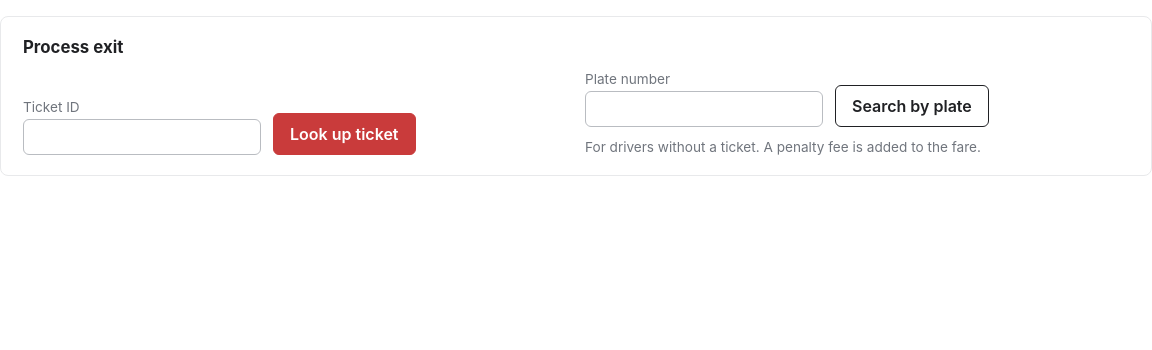
Scenario: ExitConsole › looks up by ticket, then displays the entry and computed fare response
In the field labelled "Ticket ID": {"x": 142, "y": 137} [23,119,261,155], type "TKT-1"
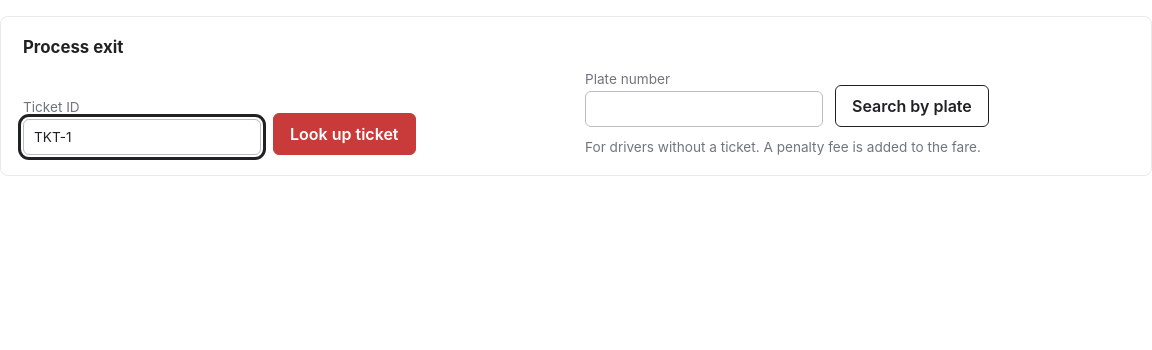
Click the button "Look up ticket": {"x": 344, "y": 134} [273,113,416,155]
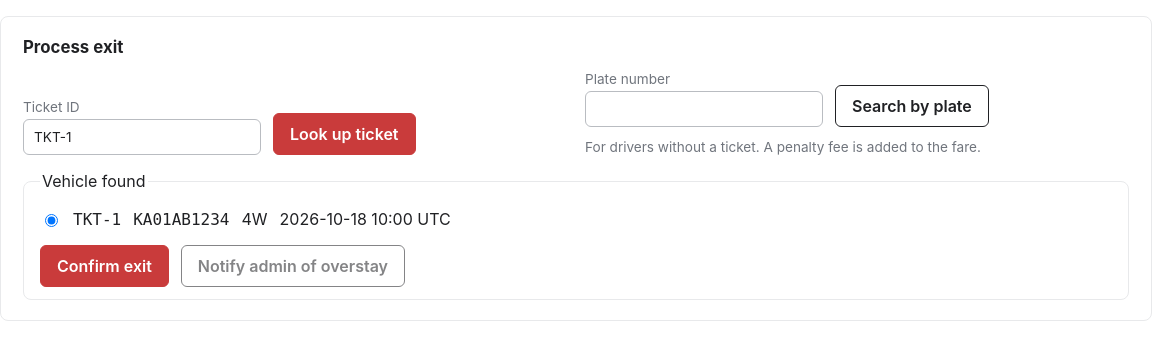
Expected: the text "KA01AB1234" is shown, [133,210,230,228]
Click the button "Confirm exit": {"x": 104, "y": 266} [40,245,169,287]
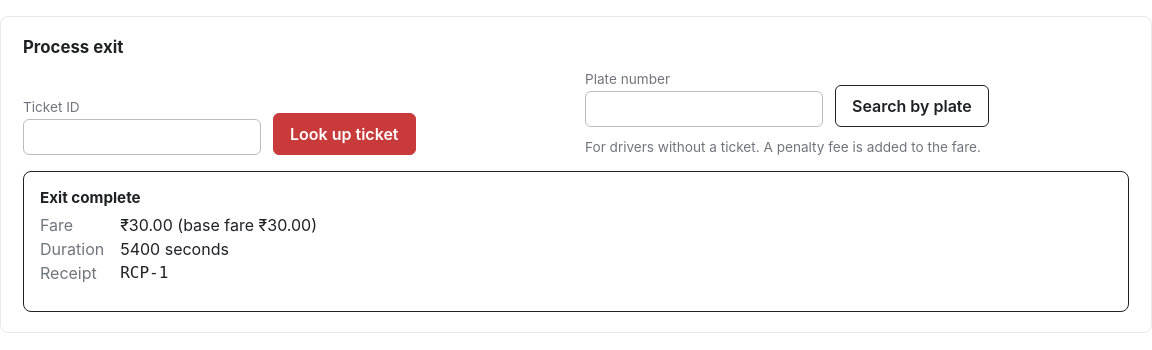
Expected: the text "₹30.00 (base fare ₹30.00)" is shown, [120,215,317,235]
Expected: the text "5400 seconds" is shown, [120,239,229,259]
Expected: the text "RCP-1" is shown, [120,263,168,282]
